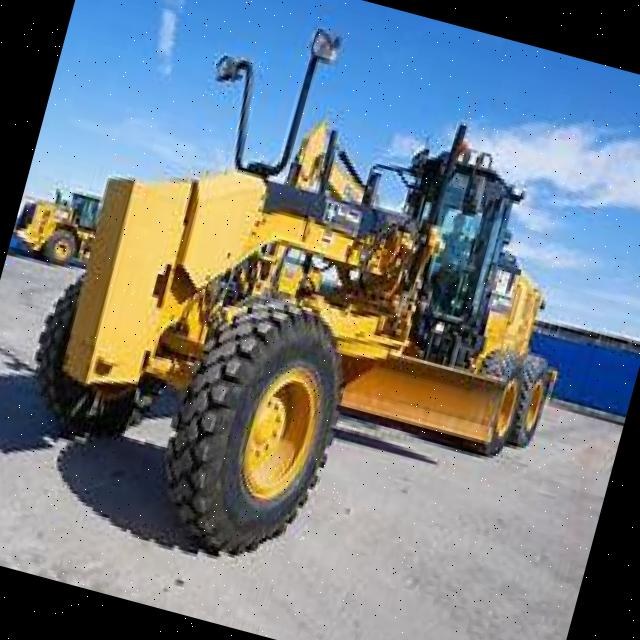Grader: (0, 17, 635, 640)
